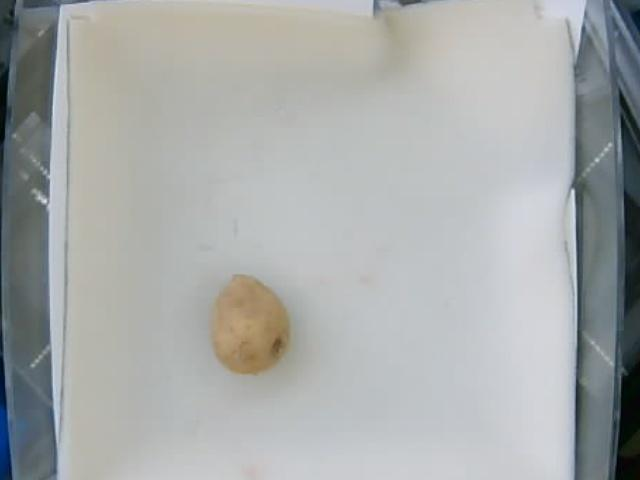Potato: (208, 276, 290, 376)
